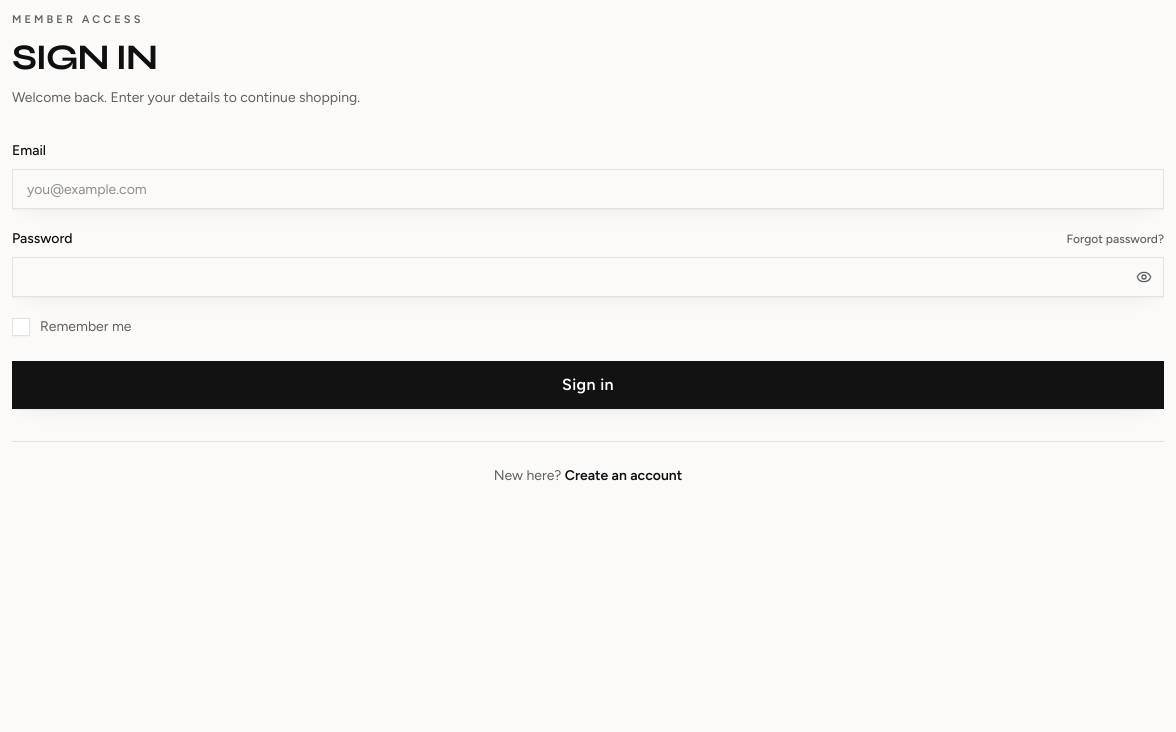
Test: LoginForm › shows validation errors for empty submission
The image size is (1176, 732).
What coordinates should you click on to do the following:
click the button "Sign in"
I would click on:
 (588, 385)
Its box is [12,361,1164,409].
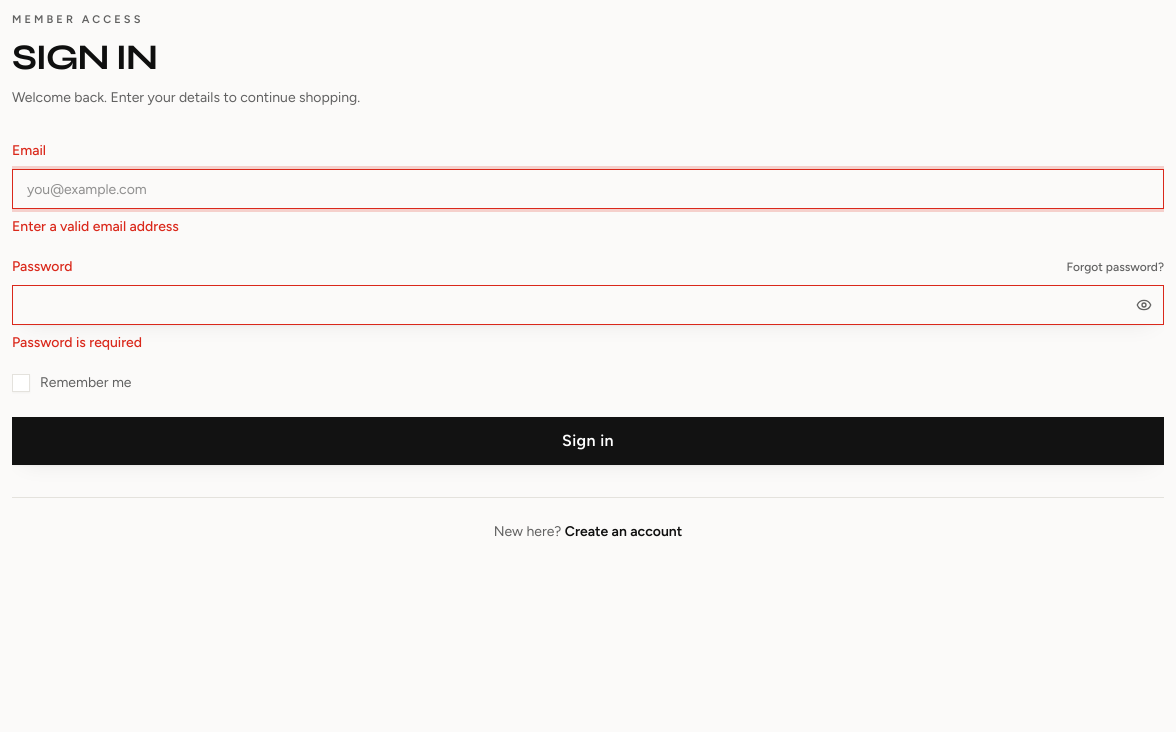
Check: the text "Enter a valid email address" is shown, box [12,218,179,235]
Check: the text "Password is required" is shown, box [12,334,142,351]
